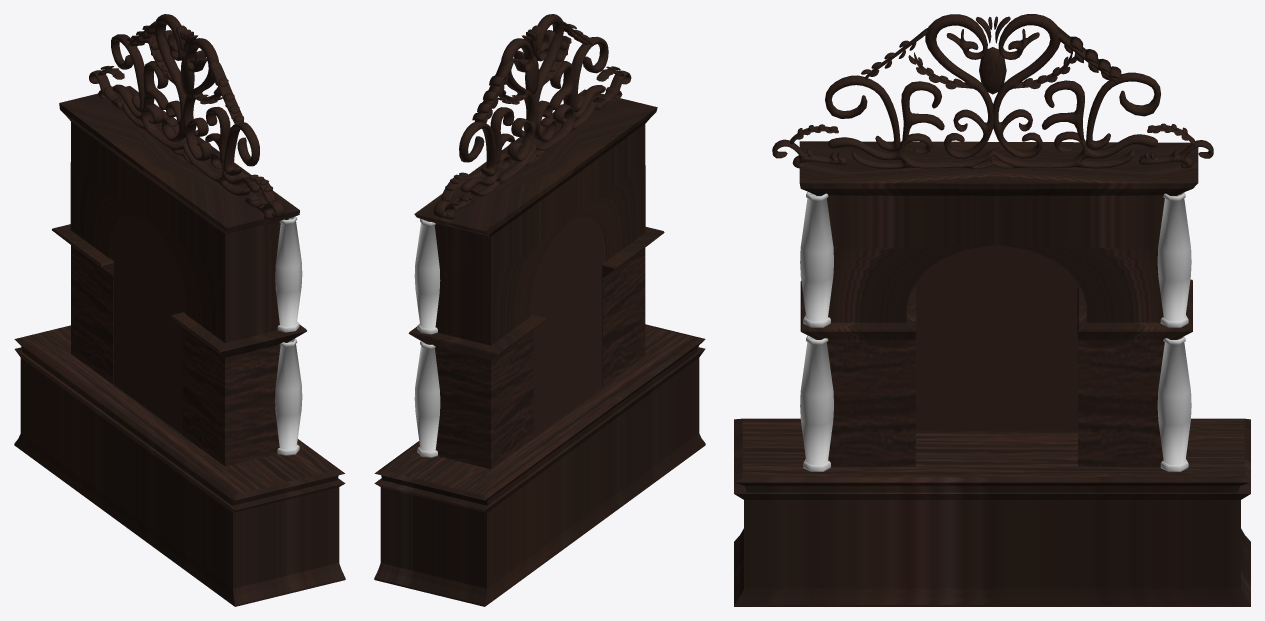
File: Iglesia-Mueble.fbx
3 views of the same model, side by side, from view 1: azimuth 30°, elevation 25°; view 2: azimuth 150°, elevation 25°; view 3: azimuth 270°, elevation 25° (orthographic). The views are drawn at different scales.
Visible parts, largest first — view 1: Circle.003; view 2: Circle.003; view 3: Circle.003.
Boxes of the visible parts, x1,y1,x2,y2 form: Circle.003: [14, 14, 345, 606]; Circle.003: [374, 14, 705, 606]; Circle.003: [734, 14, 1250, 606].
Bounding box in the file's own units: 1.6 × 6.68 × 5.54.
